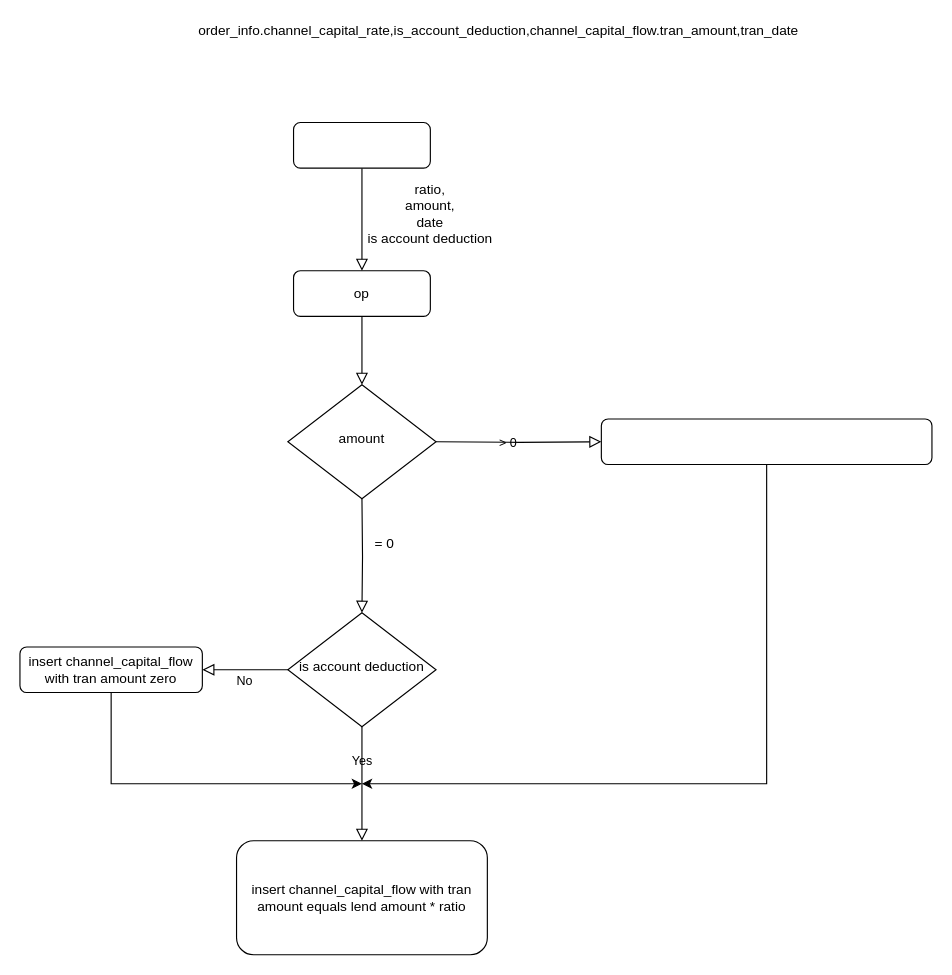
This 952x975 diagram has some shape labels left out. Each missing label, with the box of its shape:
channel_capital_flow.tran_amount = amount channel_capital_flow.tran_date = date: (600, 418, 932, 465)
fd: (292, 121, 430, 168)
